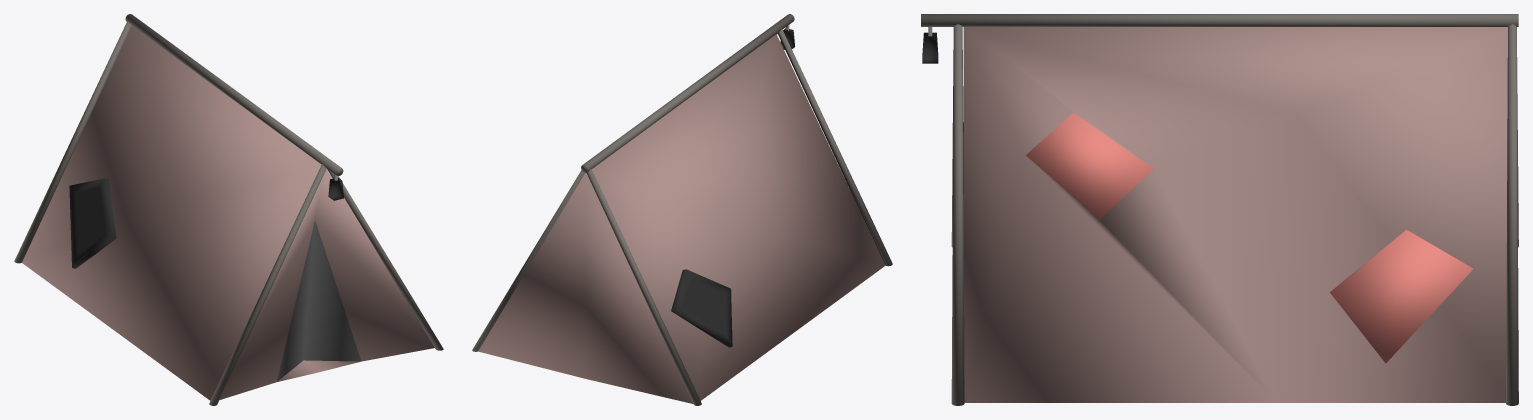
The model's file is tente.fbx.
3 renders of one model, left to right at view 1: azimuth 30°, elevation 25°; view 2: azimuth 150°, elevation 25°; view 3: azimuth 270°, elevation 25°, orthographic. The views are drawn at different scales.
Visible parts, largest first — view 1: tente; view 2: tente; view 3: tente.
Boxes of the visible parts, x1=… form: tente: x1=14, y1=14, x2=443, y2=405; tente: x1=472, y1=14, x2=892, y2=405; tente: x1=921, y1=14, x2=1518, y2=405.
Bounding box in the file's own units: 208 × 187 × 325.
